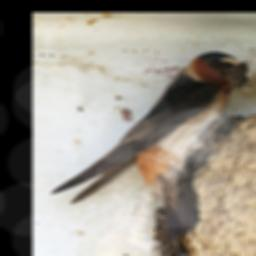Swallow: (48, 43, 249, 215)
